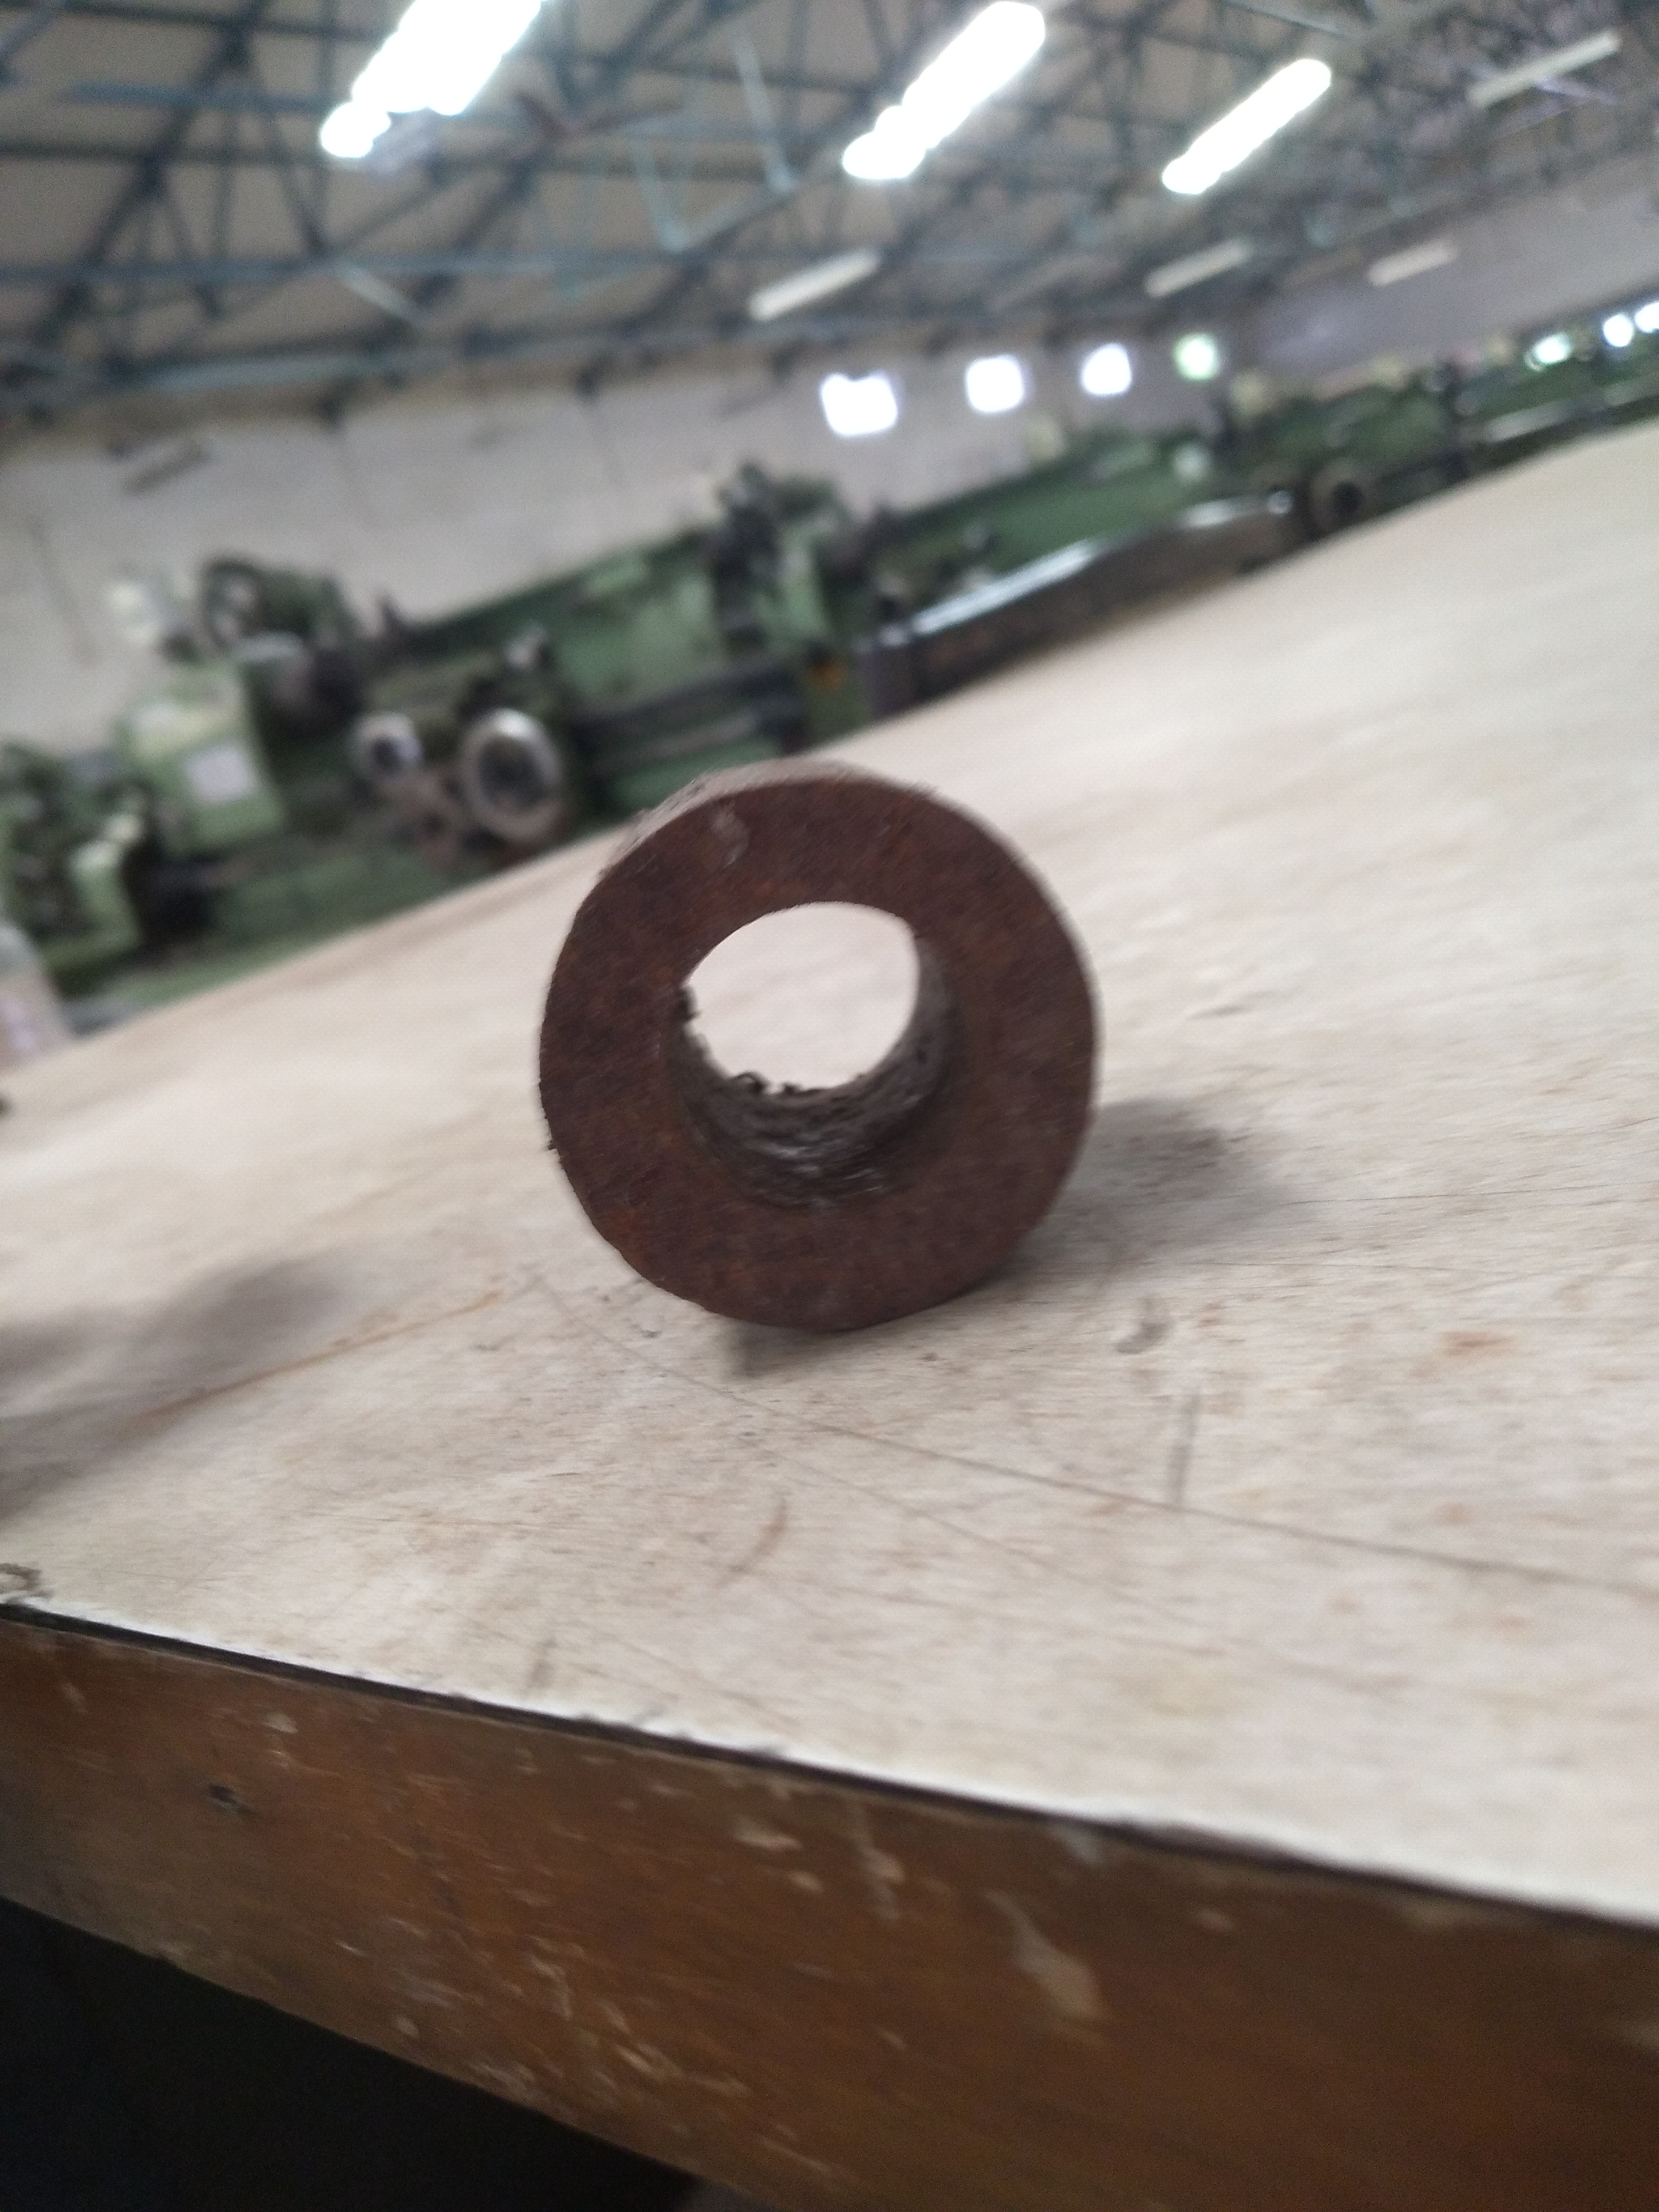No thread: (645, 895, 1012, 1242)
